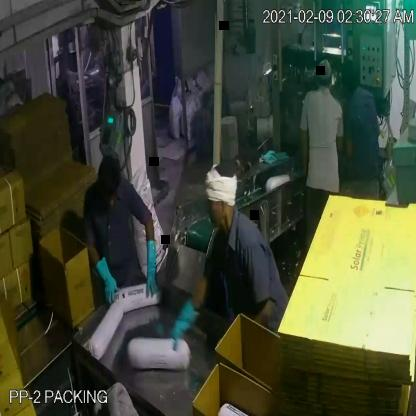glove: (88, 246, 124, 316), (136, 227, 168, 303), (169, 285, 203, 353)
no_glove: (294, 120, 314, 183)
